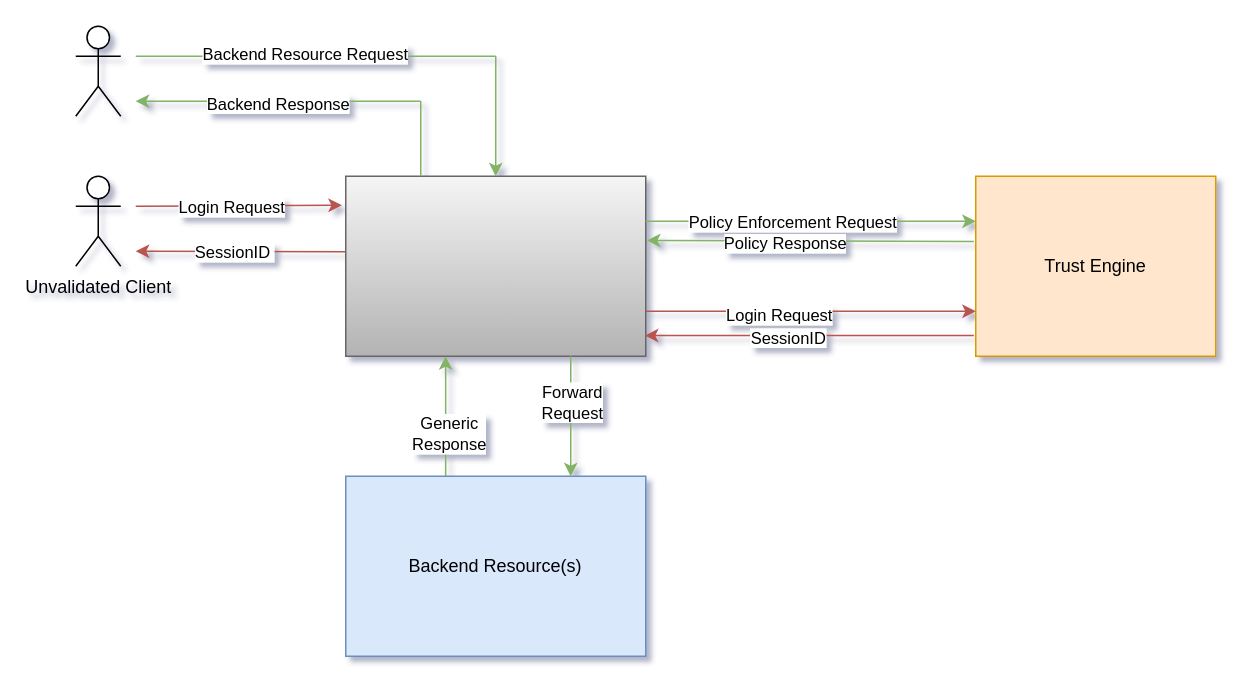
Image size: 1251x692. Some labels were removed from this diagram. The box of each missing label's shape, as (x1, y1, x2, y2) in pixels:
Edge Node: (344, 175, 646, 356)
Validated Client: (74, 25, 121, 116)
